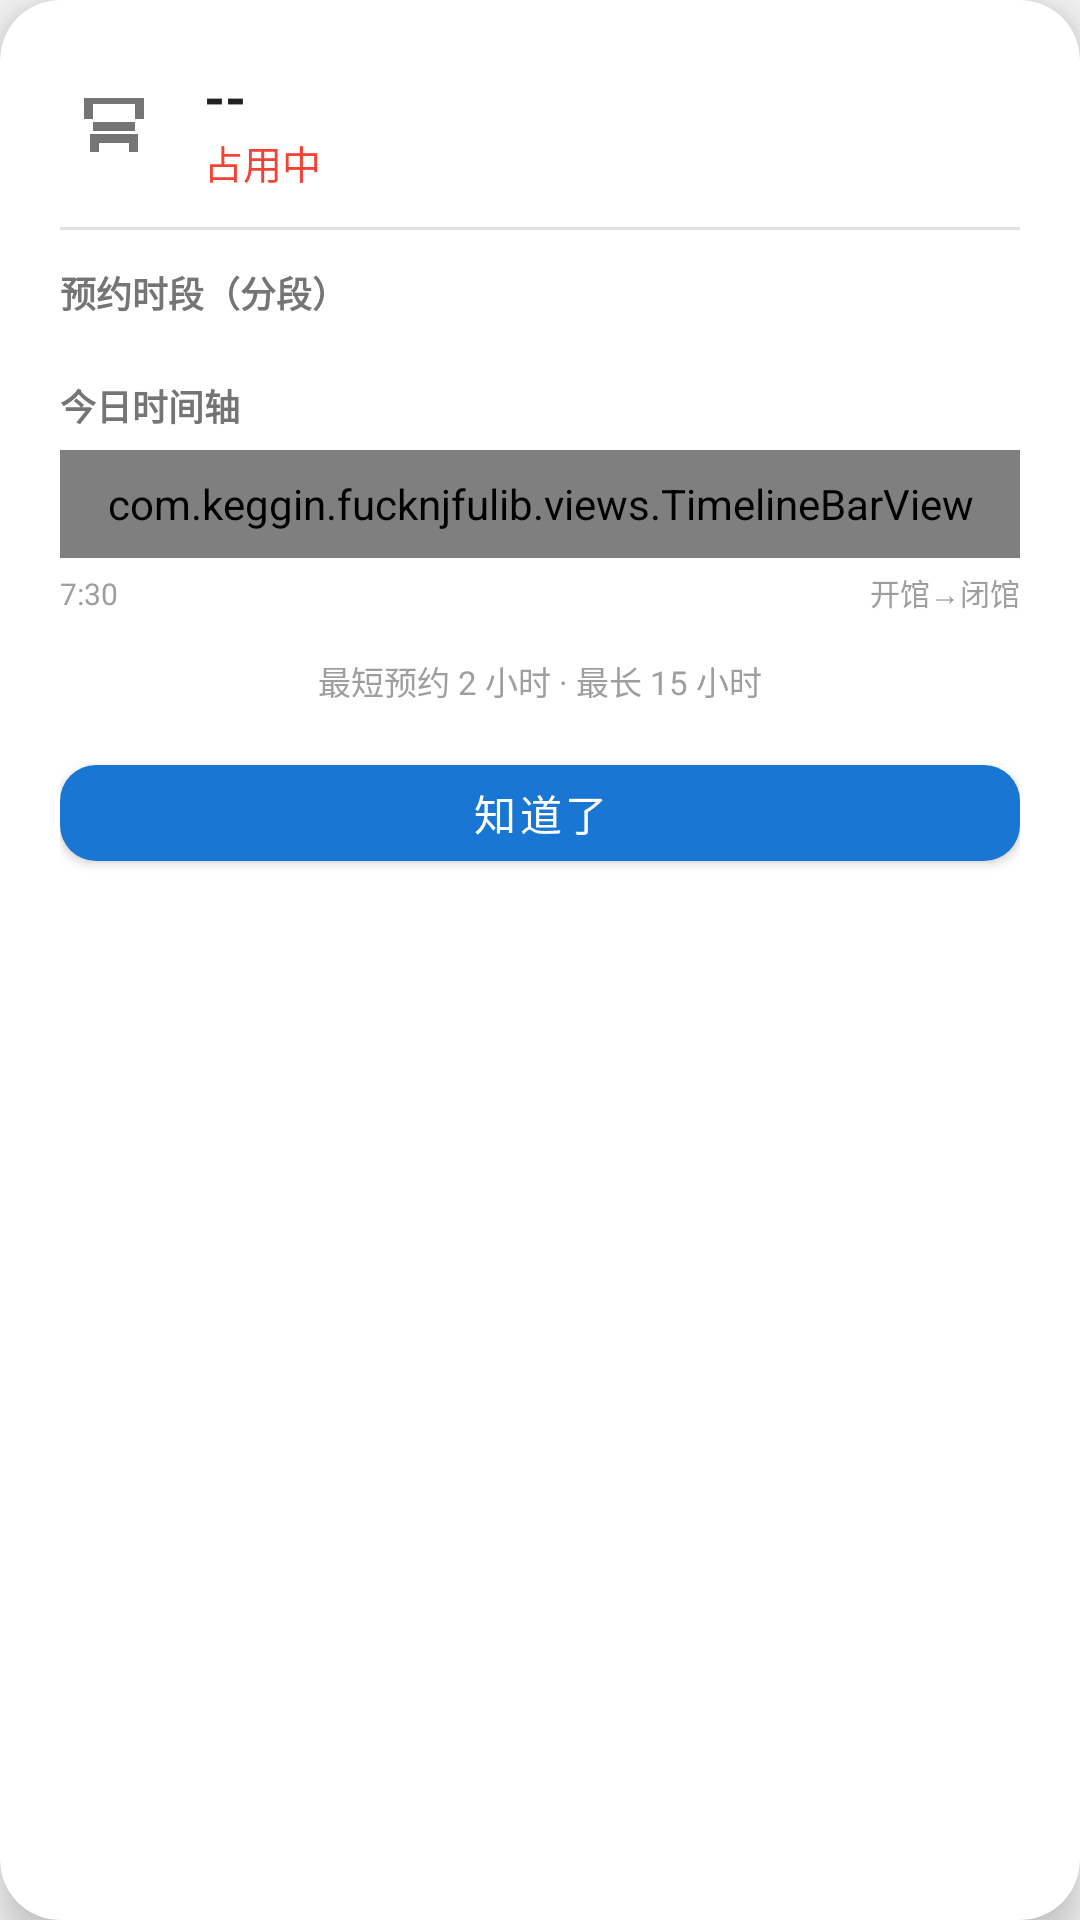

Icon bounding boxes for this 1080px x 1920px phone screenshot, format (x1, y1, x2, y2):
seat: (84, 98, 144, 152)
